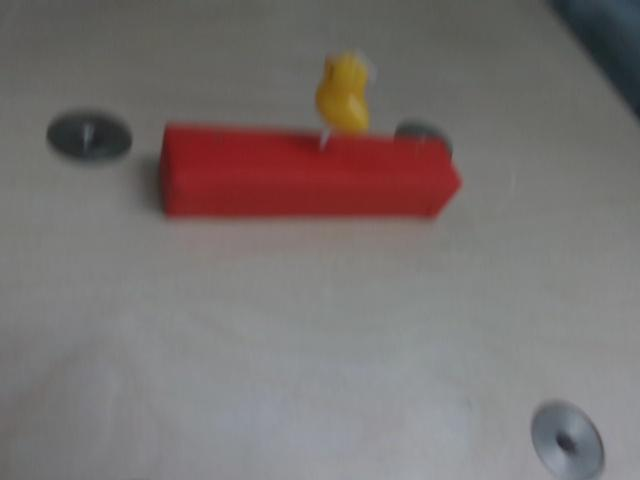y_duck: (305, 41, 382, 156)
